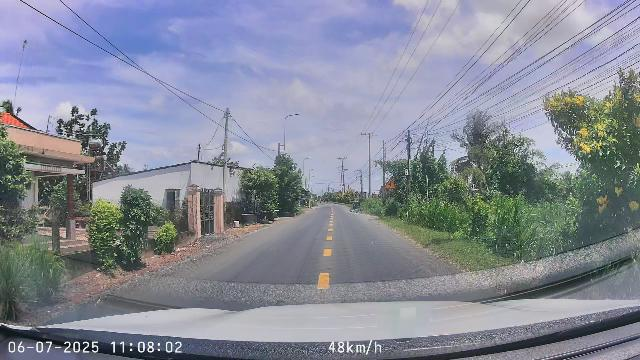207-giao-nhau-voi-duong-khong-uu-tien: (384, 177, 396, 189)
